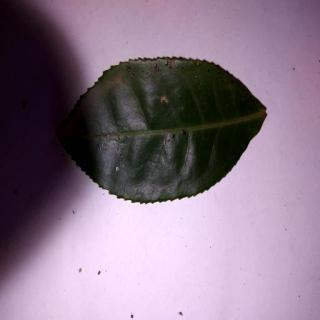Bird Eye Spot: (61, 58, 270, 205)
